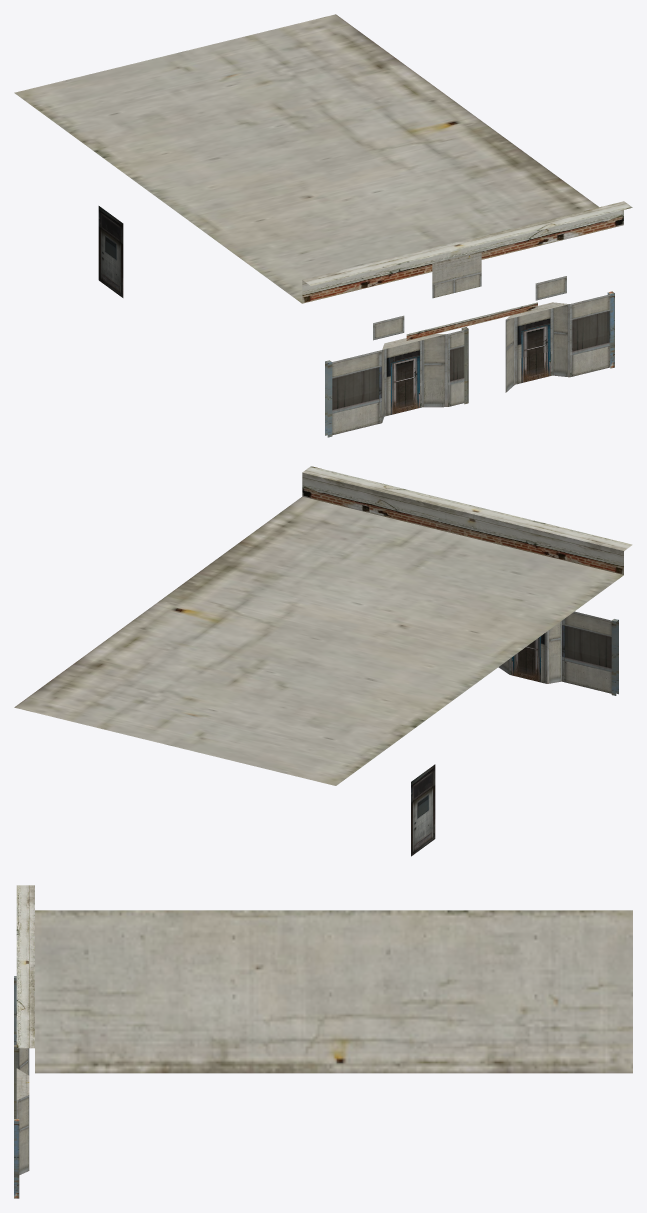
File: rural_storesmall_8_rural_facade_flr_2_0_lev2.glb
The picture shows the model from 3 angles, top to bottom: view 1: azimuth 30°, elevation 25°; view 2: azimuth 150°, elevation 25°; view 3: azimuth 270°, elevation 25°; orthographic projection. The views are drawn at different scales.
Visible parts, largest first — view 1: rural_storesmall_8_rural_facade_flr_2_0_lev2; view 2: rural_storesmall_8_rural_facade_flr_2_0_lev2; view 3: rural_storesmall_8_rural_facade_flr_2_0_lev2.
Boxes of the visible parts, x1,y1,x2,y2 form: rural_storesmall_8_rural_facade_flr_2_0_lev2: (14, 14, 632, 437); rural_storesmall_8_rural_facade_flr_2_0_lev2: (14, 466, 632, 856); rural_storesmall_8_rural_facade_flr_2_0_lev2: (14, 885, 632, 1198).
Size of the model in its own units: 8.89 by 4.07 by 14.27.
Materials: 1 (1 with a texture image).
